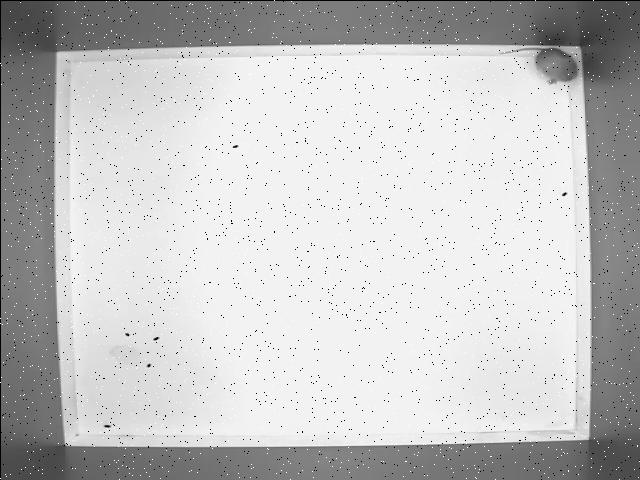Tikus: (496, 46, 578, 84)
